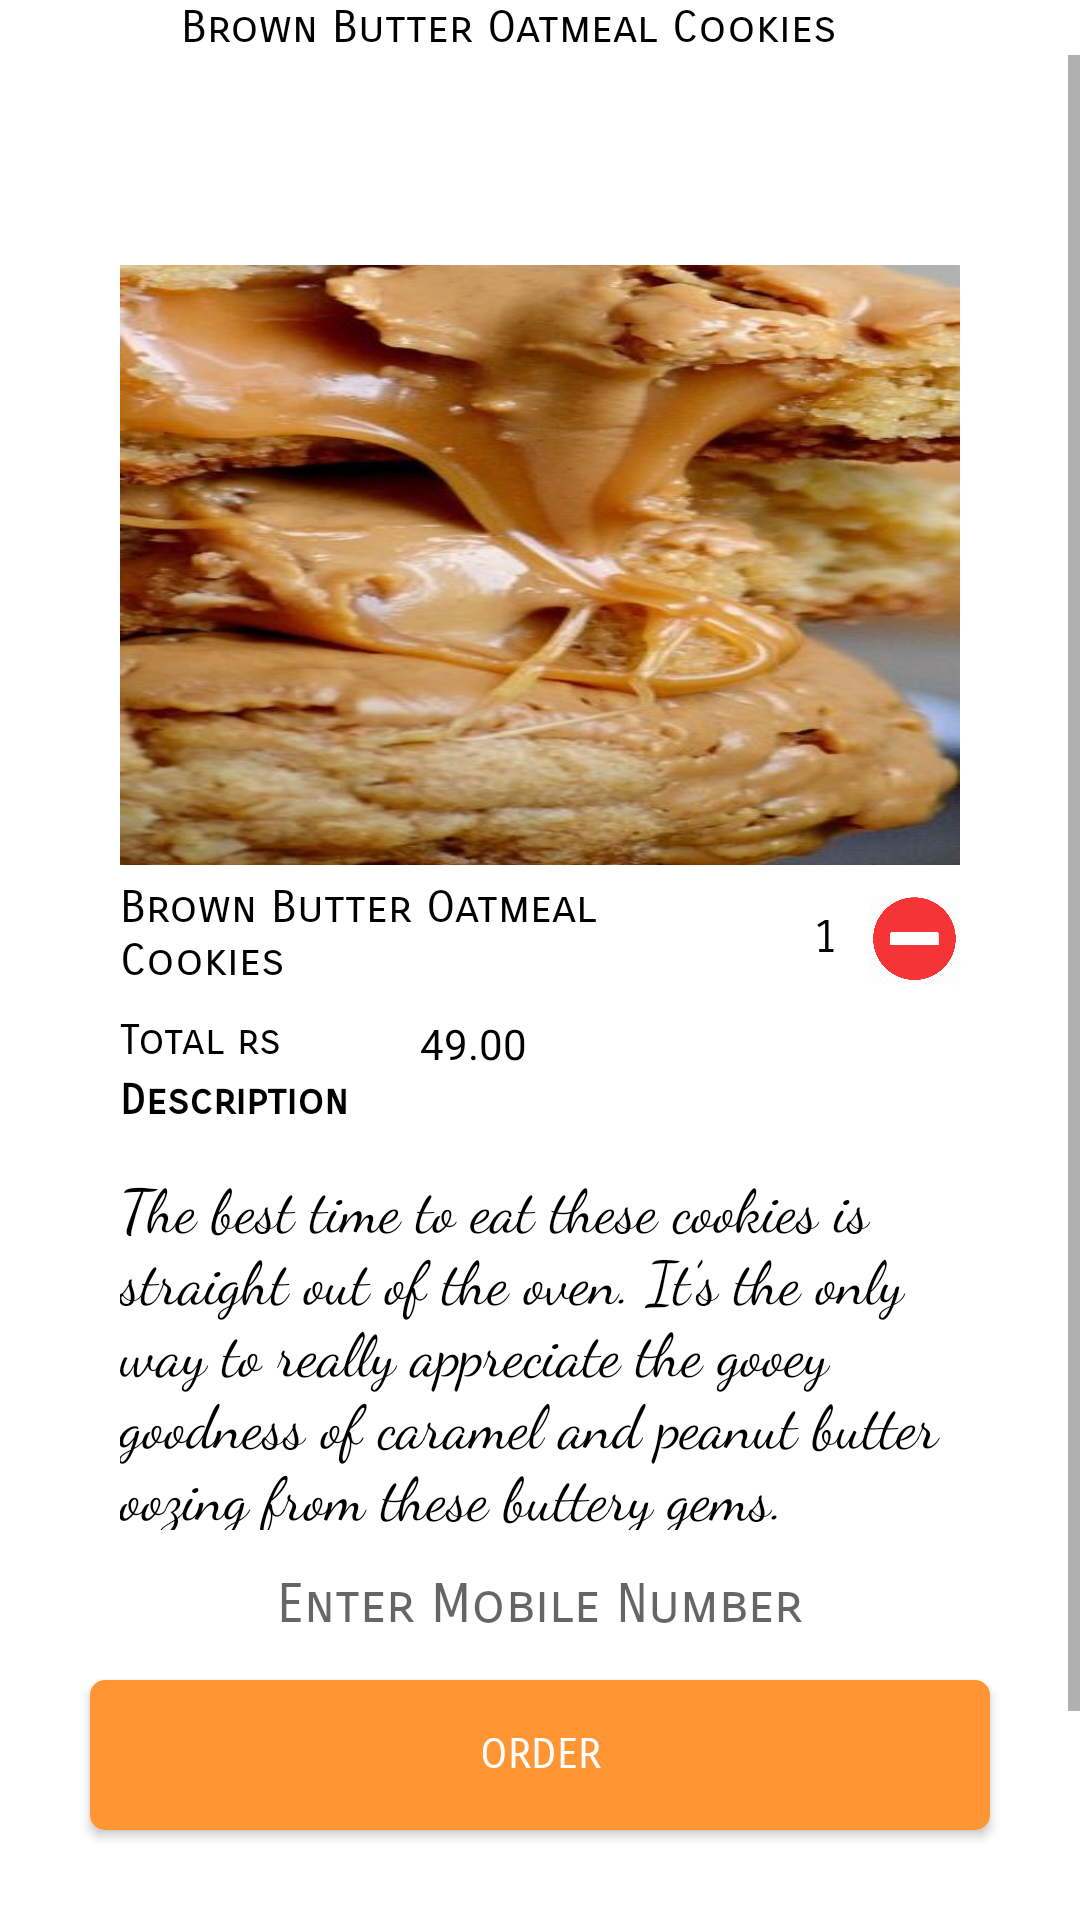

Icon bounding boxes for this 1080px x 1920px phone screenshot, format (x1, y1, x2, y2):
minus: (873, 897, 956, 980)
